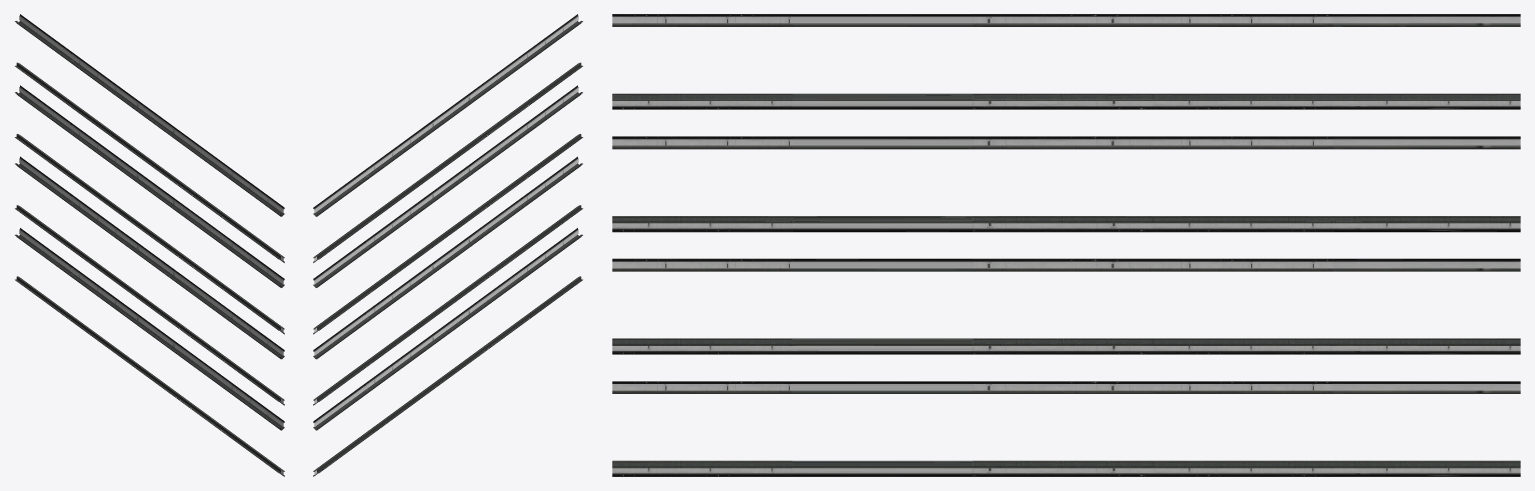
File: RearlFAC_Win05_Low_.FBX
The picture shows the model from 3 angles, left to right: view 1: azimuth 30°, elevation 25°; view 2: azimuth 150°, elevation 25°; view 3: azimuth 270°, elevation 25°; orthographic projection. The views are drawn at different scales.
Visible parts, largest first — view 1: RearlFAC_Win05_Low_; view 2: RearlFAC_Win05_Low_; view 3: RearlFAC_Win05_Low_.
Part boxes in pixels (x1=…): RearlFAC_Win05_Low_: x1=15, y1=14, x2=284, y2=476; RearlFAC_Win05_Low_: x1=313, y1=14, x2=582, y2=476; RearlFAC_Win05_Low_: x1=612, y1=14, x2=1520, y2=476.
Size of the model in its own units: 0.5008 by 22.7 by 40.36.
